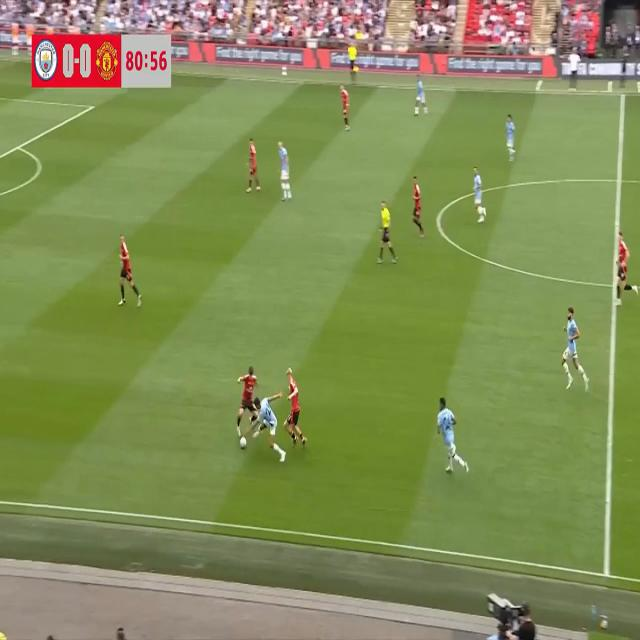ball: (239, 431, 250, 452)
players: (432, 386, 471, 484), (557, 305, 592, 395), (114, 228, 150, 314), (281, 363, 313, 453), (251, 397, 290, 466), (236, 360, 263, 436), (614, 228, 638, 308), (407, 169, 431, 237), (465, 163, 489, 225), (503, 106, 522, 173), (277, 134, 295, 202), (245, 126, 260, 200), (336, 76, 354, 134), (412, 66, 431, 120)
refree: (376, 195, 398, 274), (346, 27, 364, 85)
